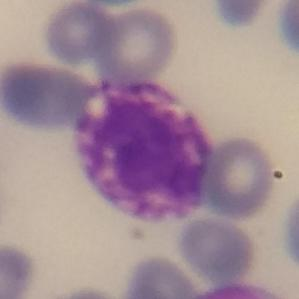Basophil: (69, 88, 210, 232)
Platelets: (272, 169, 286, 182)
RBC: (96, 2, 182, 84), (201, 133, 278, 222), (0, 57, 87, 134), (175, 214, 259, 283), (38, 2, 114, 69), (119, 253, 201, 299), (0, 240, 39, 299), (206, 0, 277, 31), (190, 279, 282, 299), (279, 184, 299, 274), (274, 0, 299, 59), (46, 285, 125, 299)
